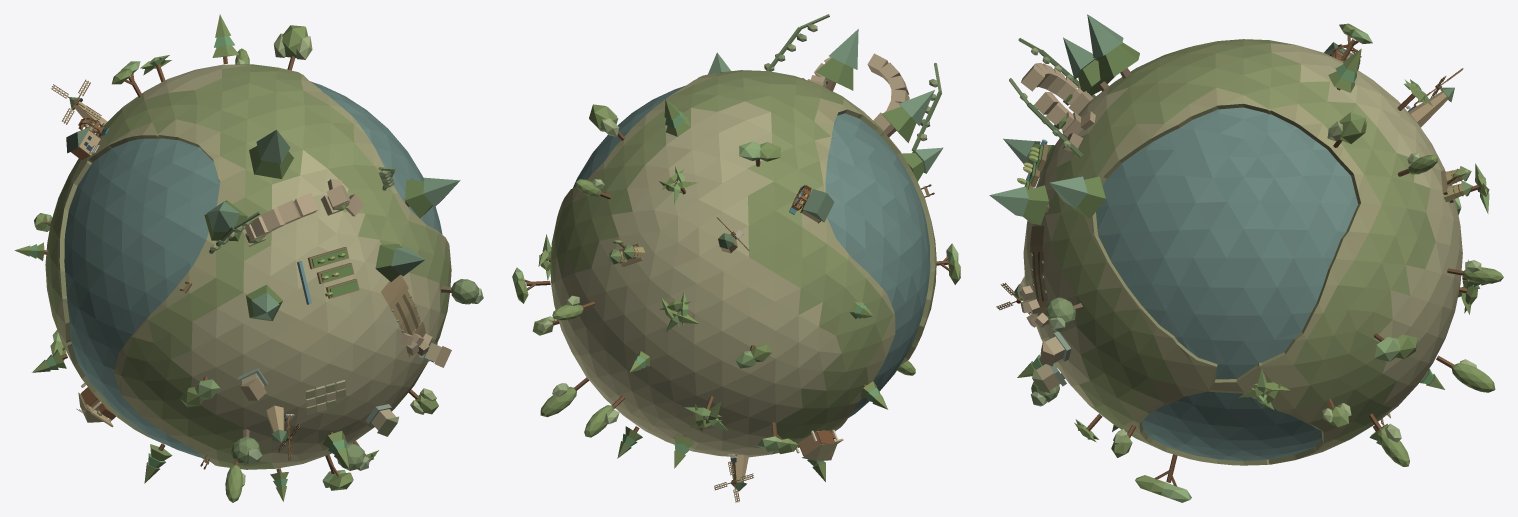
The model's file is earth.glb.
3 views of the same model, side by side, from view 1: azimuth 30°, elevation 25°; view 2: azimuth 150°, elevation 25°; view 3: azimuth 270°, elevation 25° (orthographic). The views are drawn at different scales.
Parts seen in each view (by area): view 1: Terrain • modeled surfaces, Structures • modeled surfaces, Activity_cargo-cycle_road • modeled surfaces; view 2: Terrain • modeled surfaces, Structures • modeled surfaces; view 3: Terrain • modeled surfaces, Structures • modeled surfaces, Activity_cargo-cycle_road • modeled surfaces.
Boxes of the visible parts, x1,y1,x2,y2 form: Terrain • modeled surfaces: (45,64,451,469); Structures • modeled surfaces: (14,14,483,502); Activity_cargo-cycle_road • modeled surfaces: (381,274,425,357); Terrain • modeled surfaces: (550,70,936,457); Structures • modeled surfaces: (512,14,960,502); Terrain • modeled surfaces: (1023,39,1462,465); Structures • modeled surfaces: (989,14,1503,502); Activity_cargo-cycle_road • modeled surfaces: (1030,226,1049,324).
Size of the model in its own units: 2.24 by 2.29 by 2.44.
